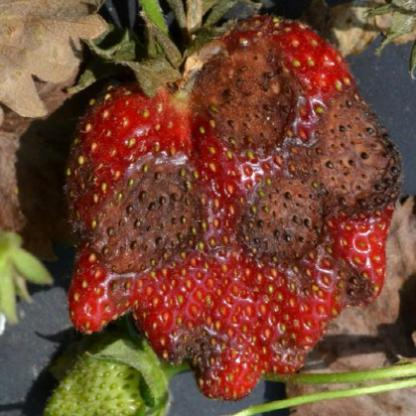Strawberry_Anthracnose_Fruit_Rot: (64, 14, 406, 394)
